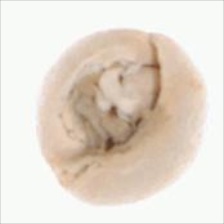L3: (69, 57, 162, 163)
L4: (37, 28, 206, 204)
